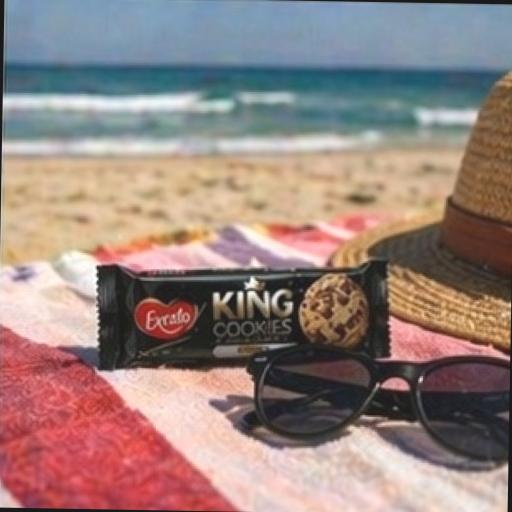king-cooking: (68, 238, 414, 400)
